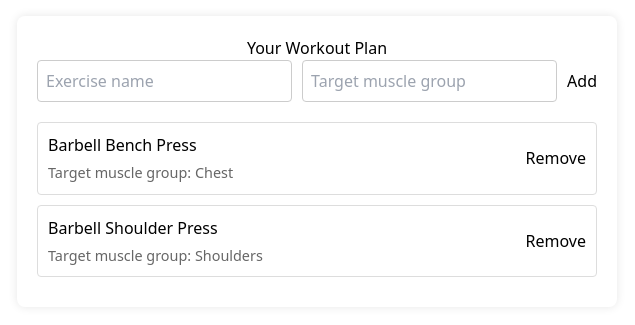
Test: removeExercise removes the correct exercise
The image size is (635, 325).
Expected: the number of list items is 2, [37, 122, 597, 195]; [37, 205, 597, 277]
Click the button "Remove" in the row of "Barbell Shoulder Press": (556, 241) [526, 216, 586, 266]
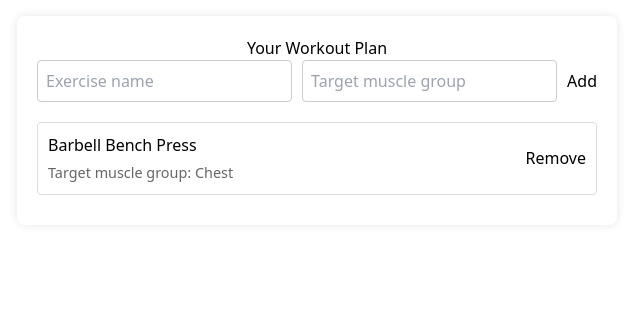
Expected: the list item "Barbell Bench Press Target muscle group: Chest Remove" is shown, [37, 122, 597, 195]
Now the number of list items is 1, box [37, 122, 597, 195]
